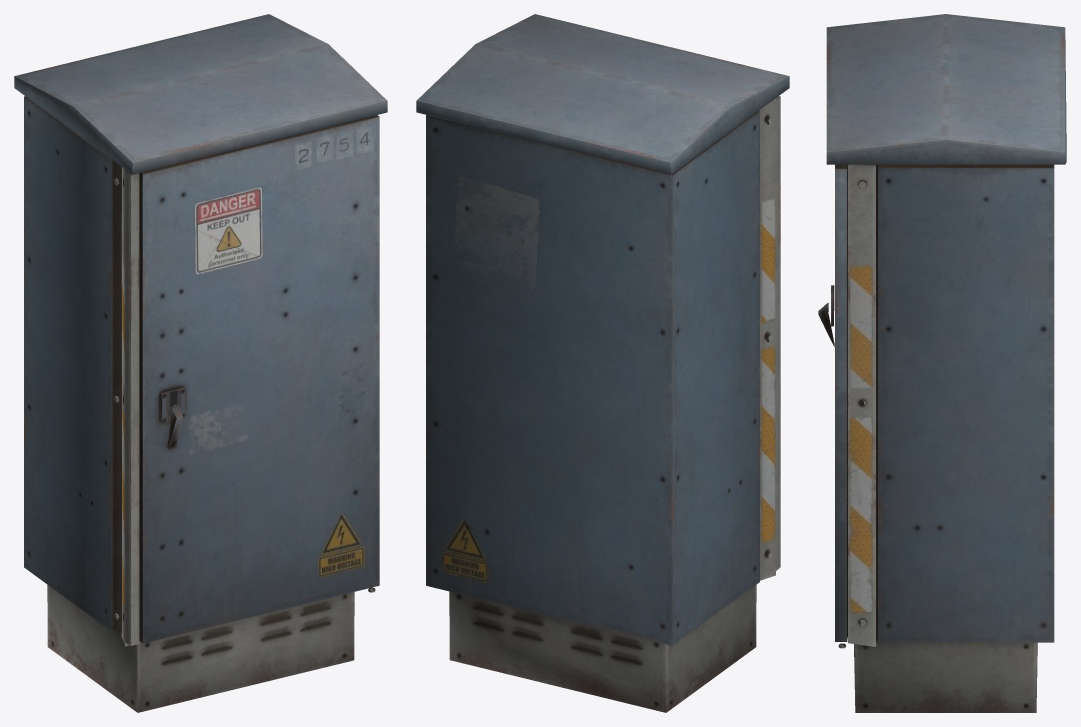
Rendered from UtilityBox_LOD2.obj.
3 views of the same model, side by side, from view 1: azimuth 30°, elevation 25°; view 2: azimuth 150°, elevation 25°; view 3: azimuth 270°, elevation 25° (orthographic).
Visible parts, largest first — view 1: utility_box_01_box; view 2: utility_box_01_box; view 3: utility_box_01_box.
Part boxes in pixels (x1,y1,x2,y2): utility_box_01_box: (14, 14, 387, 712); utility_box_01_box: (416, 14, 789, 712); utility_box_01_box: (818, 14, 1066, 712).
Size of the model in its own units: 0.52 by 1.12 by 0.432.
Materials: 1 (1 with a texture image).
